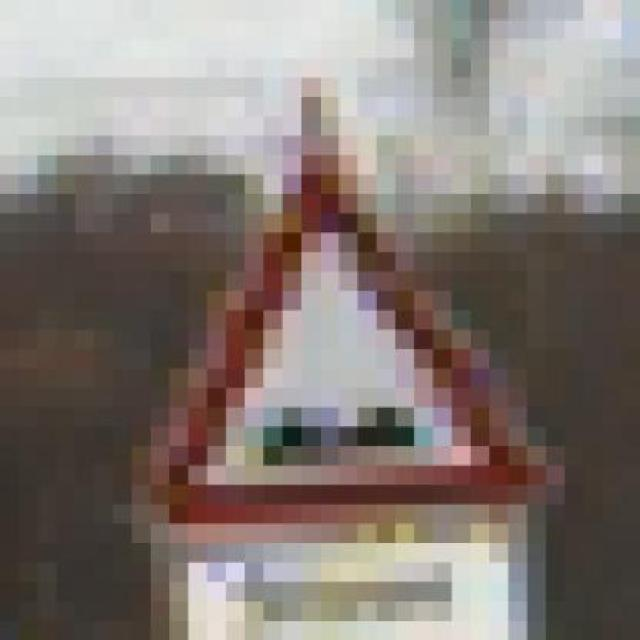Uneven Road: (132, 78, 566, 524)
